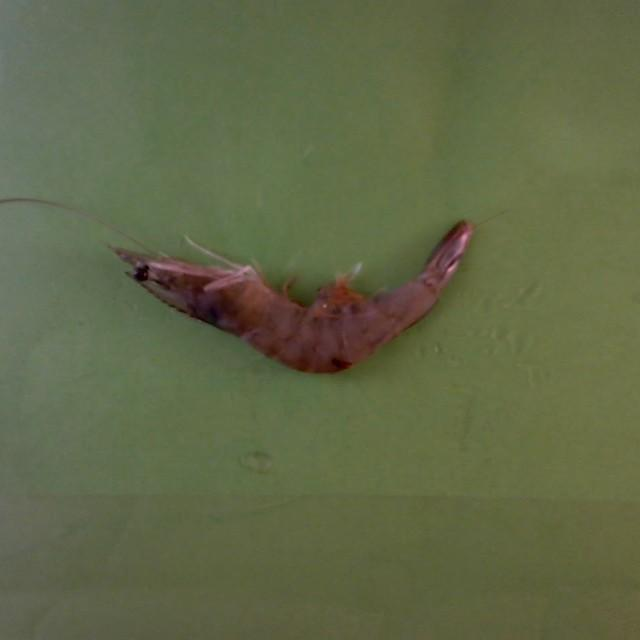shrimp: (111, 223, 475, 373)
